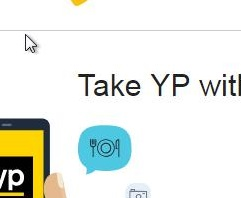cursor: (23, 32, 39, 55)
